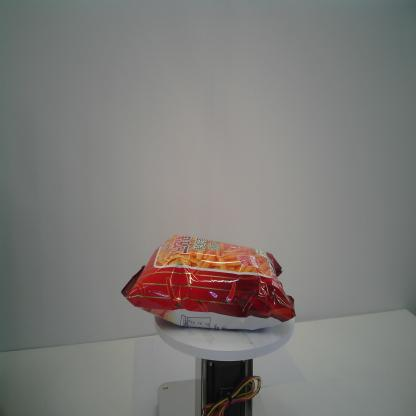Puffed Food: (121, 234, 297, 332)
